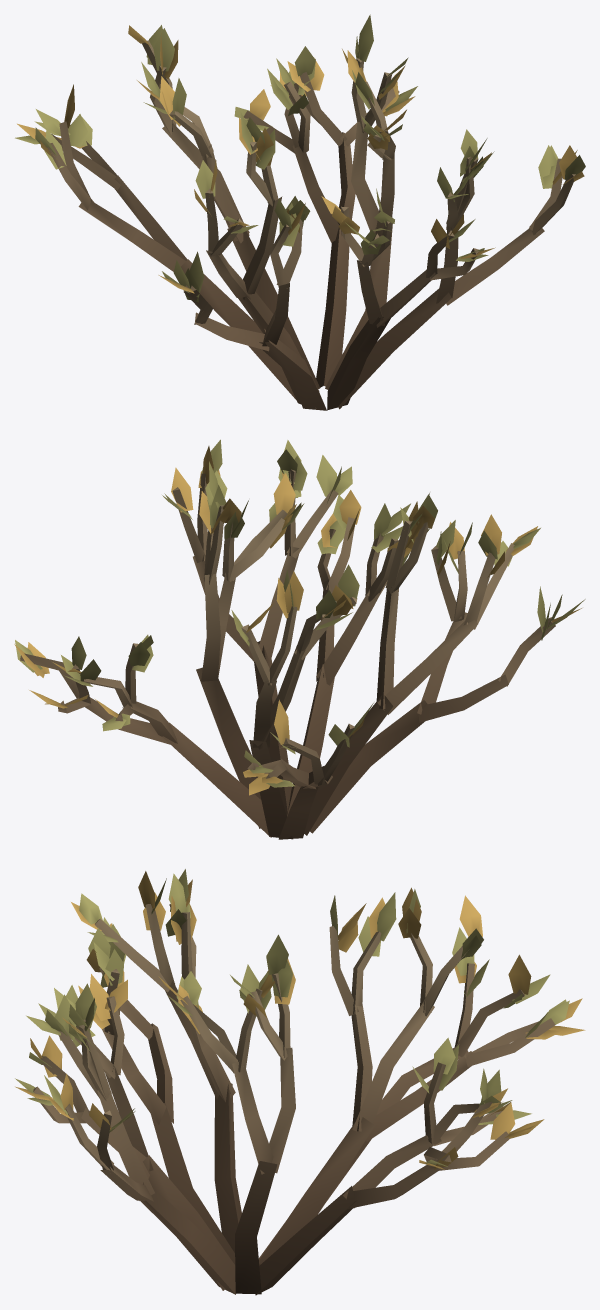
File: dry_bush.glb
3 renders of one model, top to bottom at view 1: azimuth 30°, elevation 25°; view 2: azimuth 150°, elevation 25°; view 3: azimuth 270°, elevation 25°, orthographic. The views are drawn at different scales.
Visible parts, largest first — view 1: dry_bush; view 2: dry_bush; view 3: dry_bush.
Boxes of the visible parts, box(x1,y1,x2,y2) form: dry_bush: box(15, 14, 585, 410); dry_bush: box(14, 439, 585, 839); dry_bush: box(15, 869, 585, 1295).
Size of the model in its own units: 0.8704 by 0.7288 by 0.9853.
